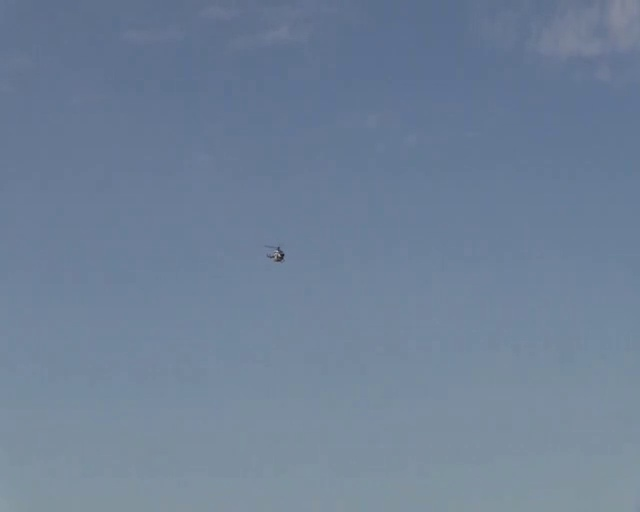HELICOPTER: (265, 244, 285, 262)
